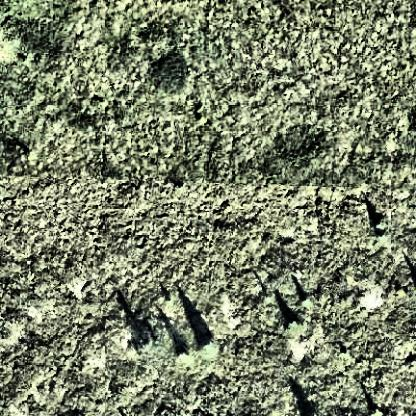tree-top: (130, 329, 158, 354), (196, 336, 220, 358), (174, 341, 194, 365), (370, 221, 391, 238), (283, 313, 301, 332)
